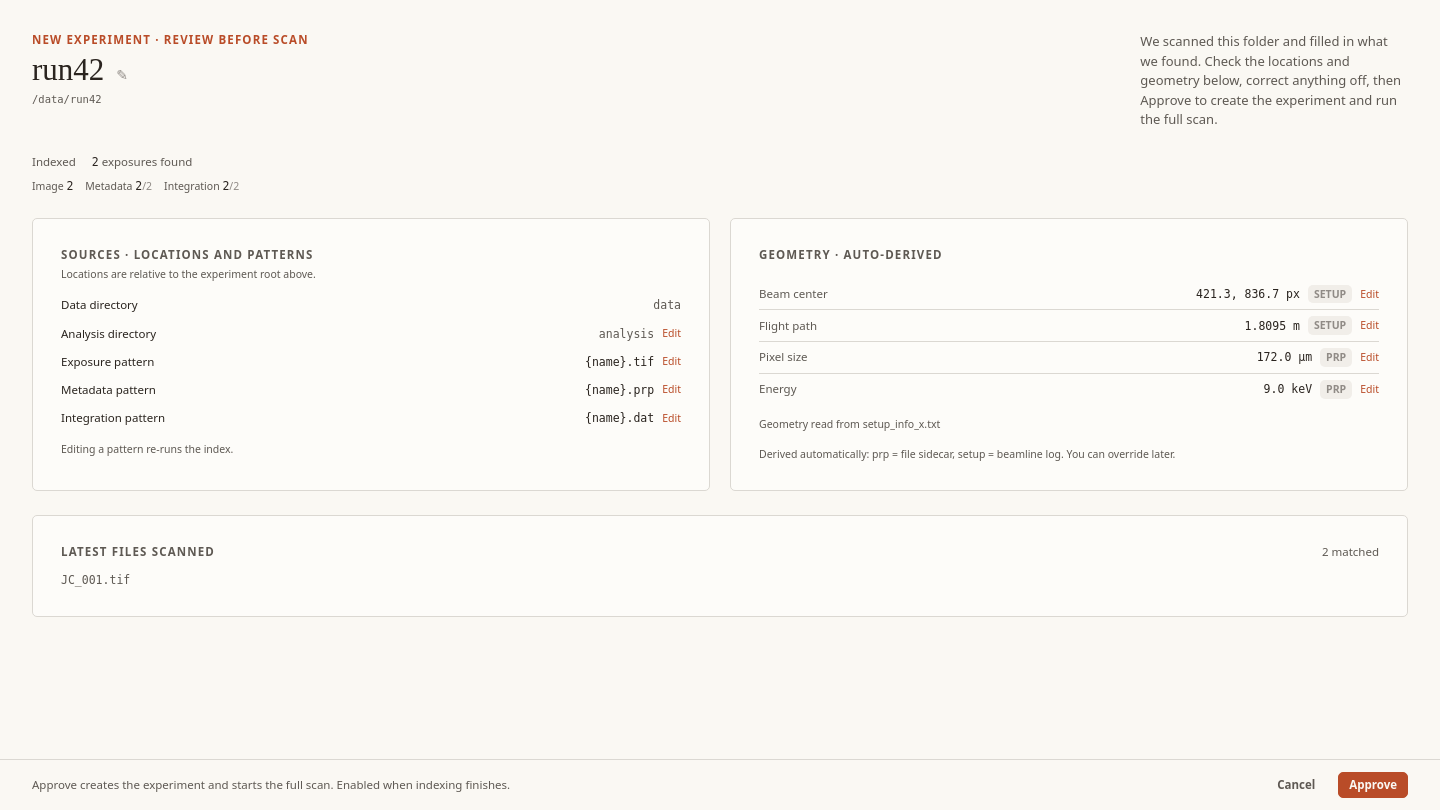
ConfigurationPage (first-run mode) › pattern fields use the Edit mechanism: read-only value, Edit reveals the input
This screenshot has width=1440, height=810.
Check: the text "2 matched" is shown, box [1322,544,1379,560]
Check: the text "{name}.tif" is shown, box [585,354,654,370]
The Exposure-pattern row's Edit reveals the prefilled input.
What coordinates should you click on to do the following:
click the button "Edit" next to "{name}.tif"
I would click on:
 (672, 362)
Its box is [662,354,681,369].
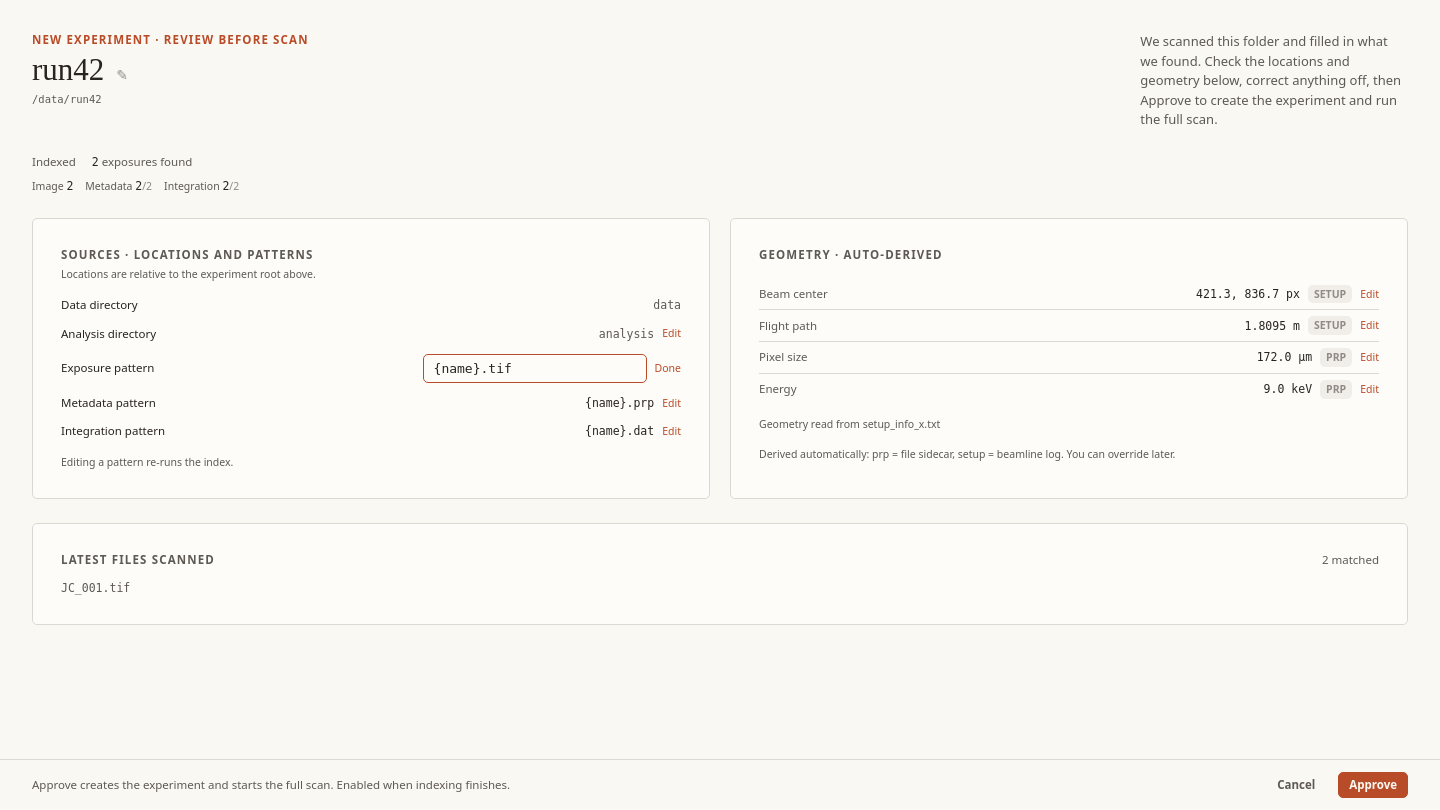
Check: the field named "Exposure pattern" holds "{name}.tif", box [434,359,636,378]
